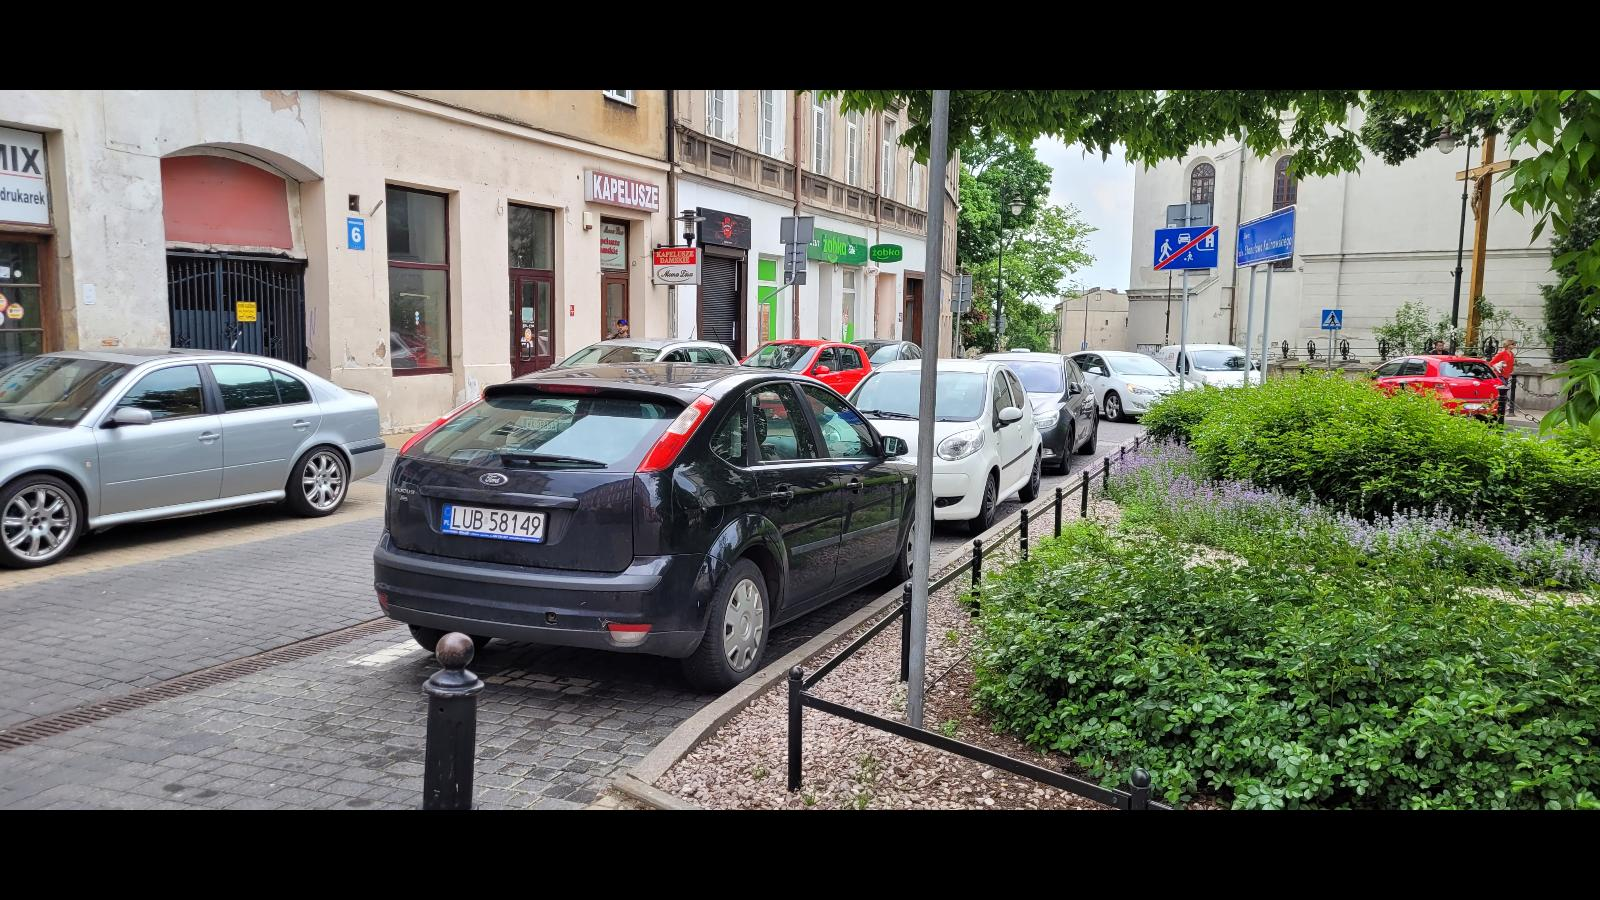plates: (440, 503, 546, 543)
